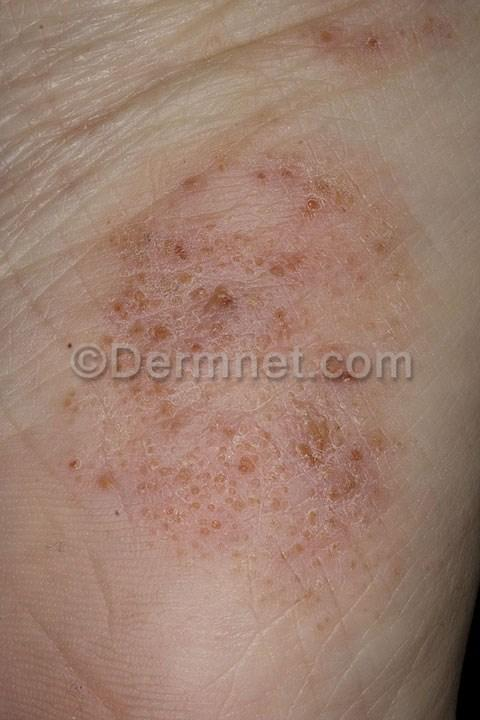Eczema: (7, 132, 454, 621), (277, 0, 477, 98)
